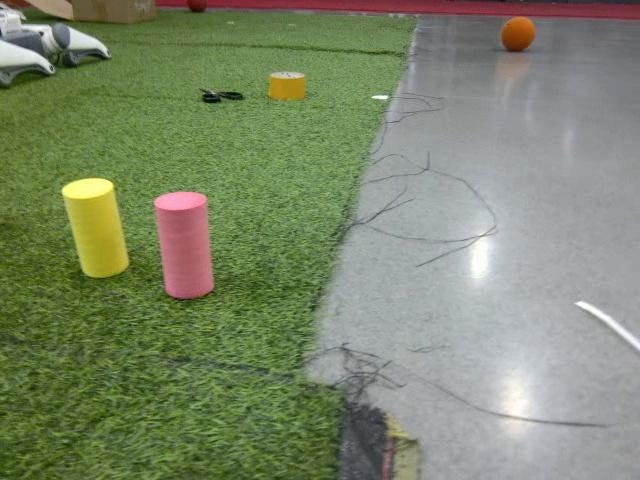orange_ball: (499, 15, 537, 52)
red_cylinder: (153, 190, 215, 301)
yellow_cylinder: (60, 177, 134, 281)
